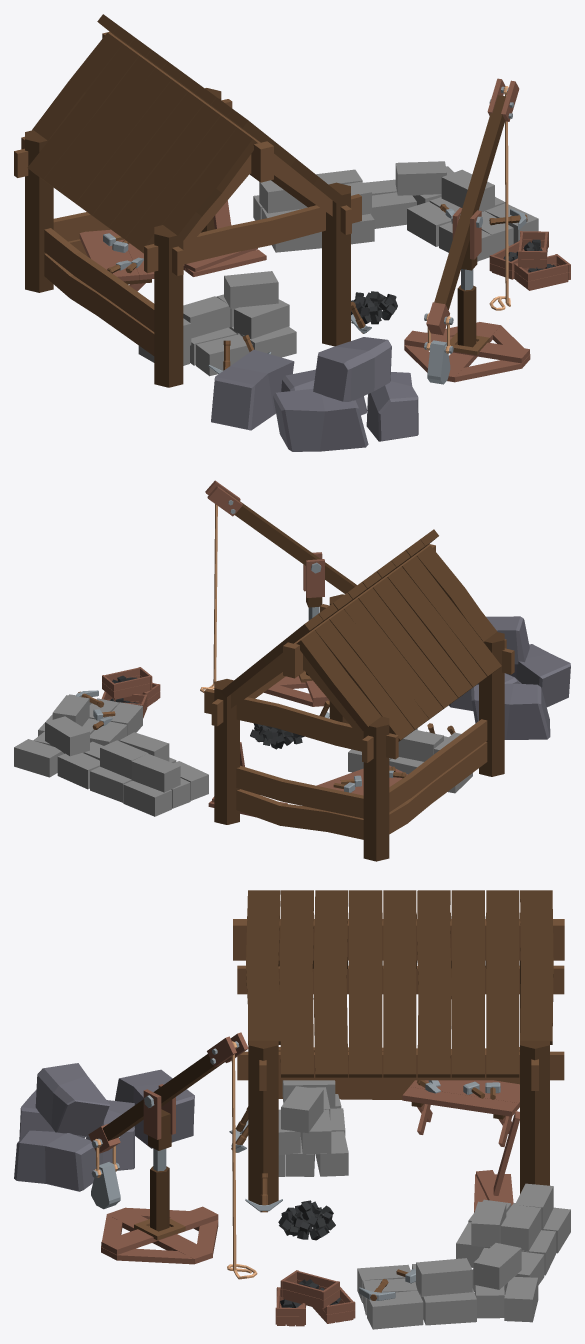
The model's file is Masonary.fbx.
3 views of the same model, one above another, from view 1: azimuth 30°, elevation 25°; view 2: azimuth 150°, elevation 25°; view 3: azimuth 270°, elevation 25° (orthographic). The views are drawn at different scales.
Parts seen in each view (by area): view 1: Masonary, Masonary.002, Masonary.001, Masonary.003; view 2: Masonary, Masonary.002, Masonary.001, Masonary.003; view 3: Masonary, Masonary.002, Masonary.001, Masonary.003.
Part boxes in pixels (<box>): Masonary: <box>14,14,570,387</box>; Masonary.002: <box>211,337,418,451</box>; Masonary.001: <box>424,78,519,384</box>; Masonary.003: <box>404,269,530,382</box>; Masonary: <box>14,529,514,861</box>; Masonary.002: <box>449,616,570,739</box>; Masonary.001: <box>200,480,356,692</box>; Masonary.003: <box>264,607,329,706</box>; Masonary: <box>229,890,570,1329</box>; Masonary.002: <box>14,1063,194,1191</box>; Masonary.001: <box>88,1032,257,1279</box>; Masonary.003: <box>101,1148,218,1264</box>.
Bounding box in the file's own units: 1567 × 863 × 1620.
